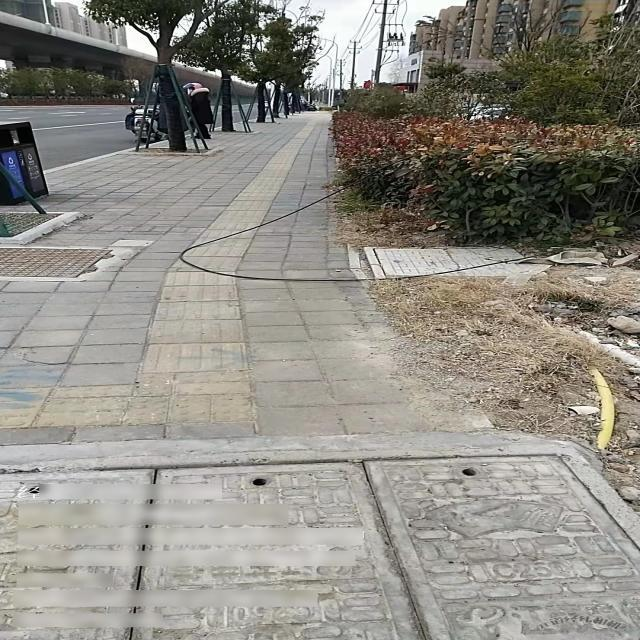Good: (4, 443, 636, 640), (361, 243, 552, 280), (0, 243, 120, 280)
